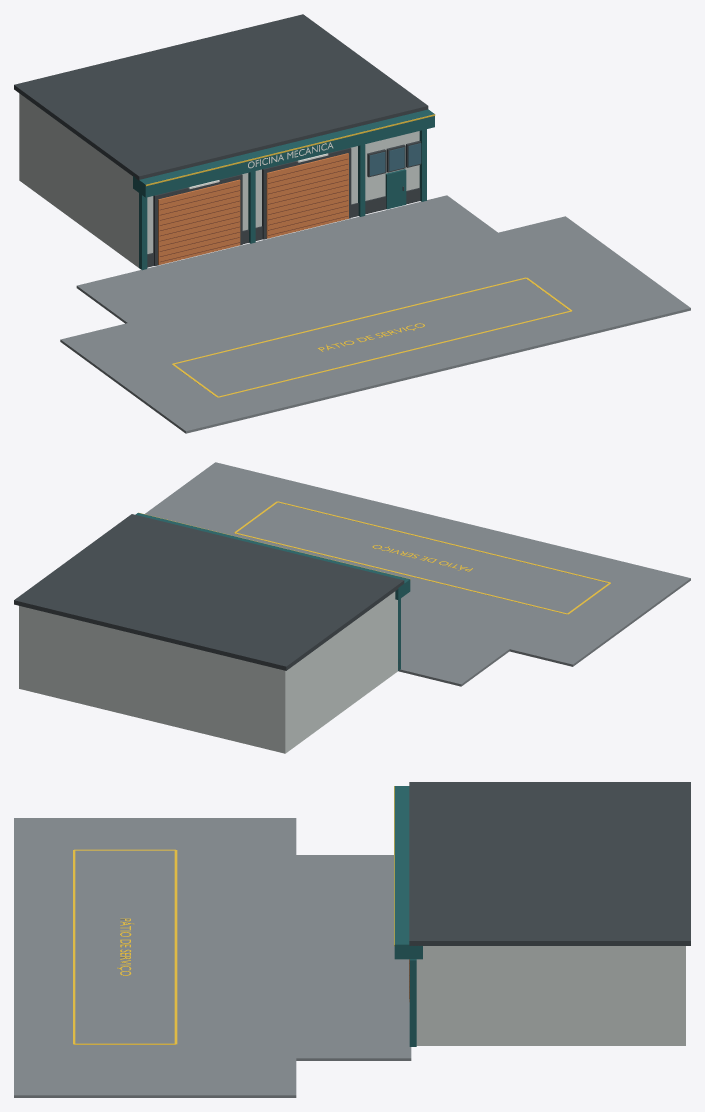
File: BLD_Oficina_Publica_PREP_20261111.glb
3 renders of one model, top to bottom at view 1: azimuth 30°, elevation 25°; view 2: azimuth 150°, elevation 25°; view 3: azimuth 270°, elevation 25°, orthographic. The views are drawn at different scales.
Parts seen in each view (by area): view 1: PATIO_CAMINHOES, Chapa grafite, PISO_ACESSO_OFICINA, Painéis claros, Portões cobre, Estrutura verde-petróleo, Faixa de serviço, Juntas dos portões, Vidro azulado; view 2: PATIO_CAMINHOES, Chapa grafite, Painéis claros, PISO_ACESSO_OFICINA, Faixa de serviço, Estrutura verde-petróleo; view 3: PATIO_CAMINHOES, Chapa grafite, Painéis claros, PISO_ACESSO_OFICINA, Estrutura verde-petróleo, Faixa de serviço.
Boxes of the visible parts, left/top/right/bottom form: PATIO_CAMINHOES: left=60, top=216, right=690, bottom=433; Chapa grafite: left=14, top=14, right=428, bottom=267; PISO_ACESSO_OFICINA: left=76, top=195, right=497, bottom=323; Painéis claros: left=19, top=93, right=419, bottom=267; Portões cobre: left=158, top=153, right=348, bottom=264; Estrutura verde-petróleo: left=133, top=109, right=434, bottom=270; Faixa de serviço: left=145, top=114, right=572, bottom=397; Juntas dos portões: left=159, top=158, right=348, bottom=262; Vidro azulado: left=369, top=143, right=421, bottom=175; PATIO_CAMINHOES: left=145, top=462, right=690, bottom=666; Chapa grafite: left=14, top=514, right=404, bottom=670; Painéis claros: left=19, top=591, right=397, bottom=753; PISO_ACESSO_OFICINA: left=398, top=622, right=509, bottom=686; Faixa de serviço: left=138, top=501, right=610, bottom=614; Estrutura verde-petróleo: left=135, top=513, right=410, bottom=670; PATIO_CAMINHOES: left=14, top=818, right=296, bottom=1097; Chapa grafite: left=409, top=782, right=690, bottom=945; Painéis claros: left=416, top=946, right=685, bottom=1045; PISO_ACESSO_OFICINA: left=296, top=855, right=411, bottom=1060; Estrutura verde-petróleo: left=394, top=786, right=422, bottom=1046; Faixa de serviço: left=73, top=786, right=394, bottom=1044.
Bounding box in the file's own units: 30 × 5.52 × 30.95.
